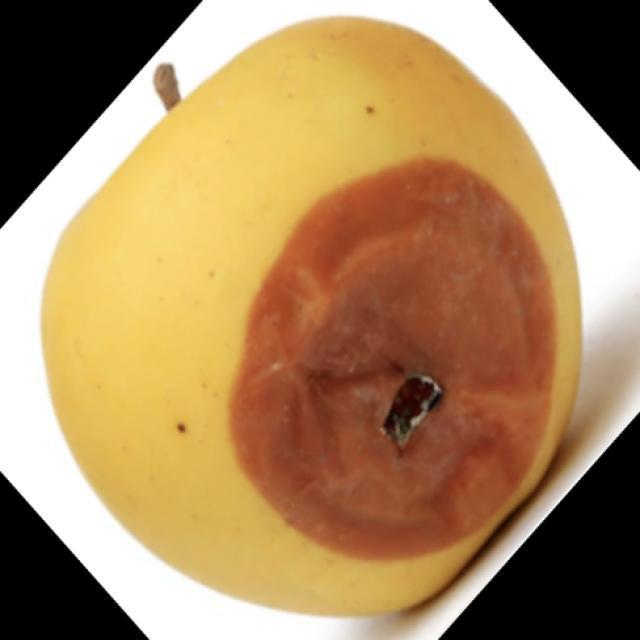Rotten: (97, 17, 575, 605)
